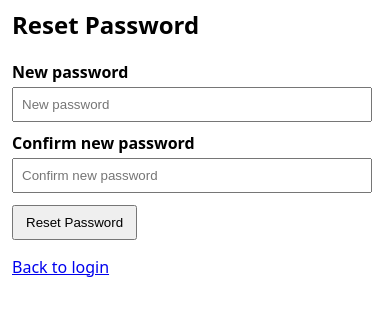
Test case: ResetPassword page › shows missing token error and does not submit
This screenshot has width=389, height=322.
Type "Pass1234" into the password field with placeholder "New password" at point(192, 104), box top-left (12, 87), bottom-right (372, 122)
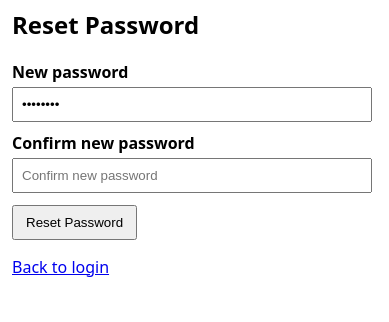
Type "Pass1234" into the password field with placeholder "Confirm new password" at point(192, 175), box top-left (12, 158), bottom-right (372, 193)
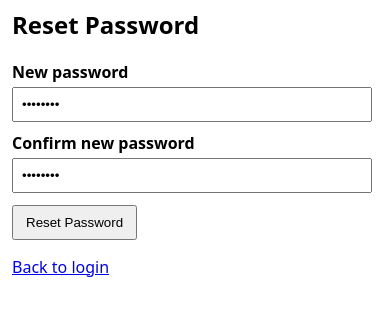
Click the button "Reset Password" at point(74, 222), box top-left (12, 205), bottom-right (137, 240)
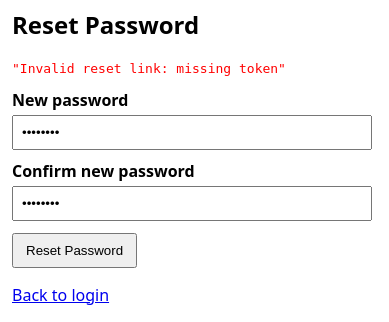
Expected: the text "\"Invalid reset link: missing token\"" is shown, top-left (12, 61), bottom-right (286, 76)
